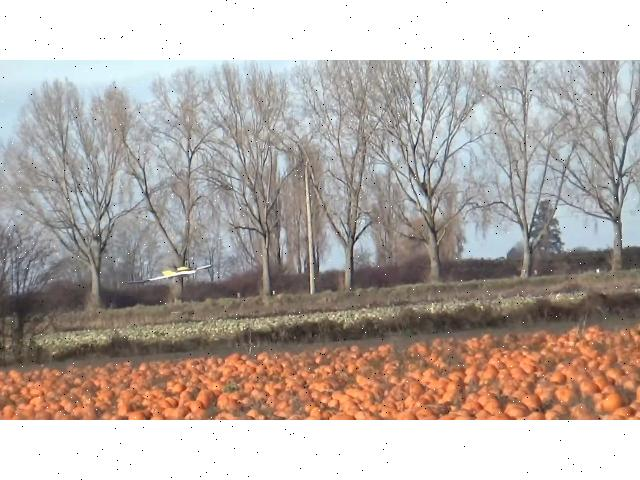Anti-Drone: (124, 264, 214, 284)
